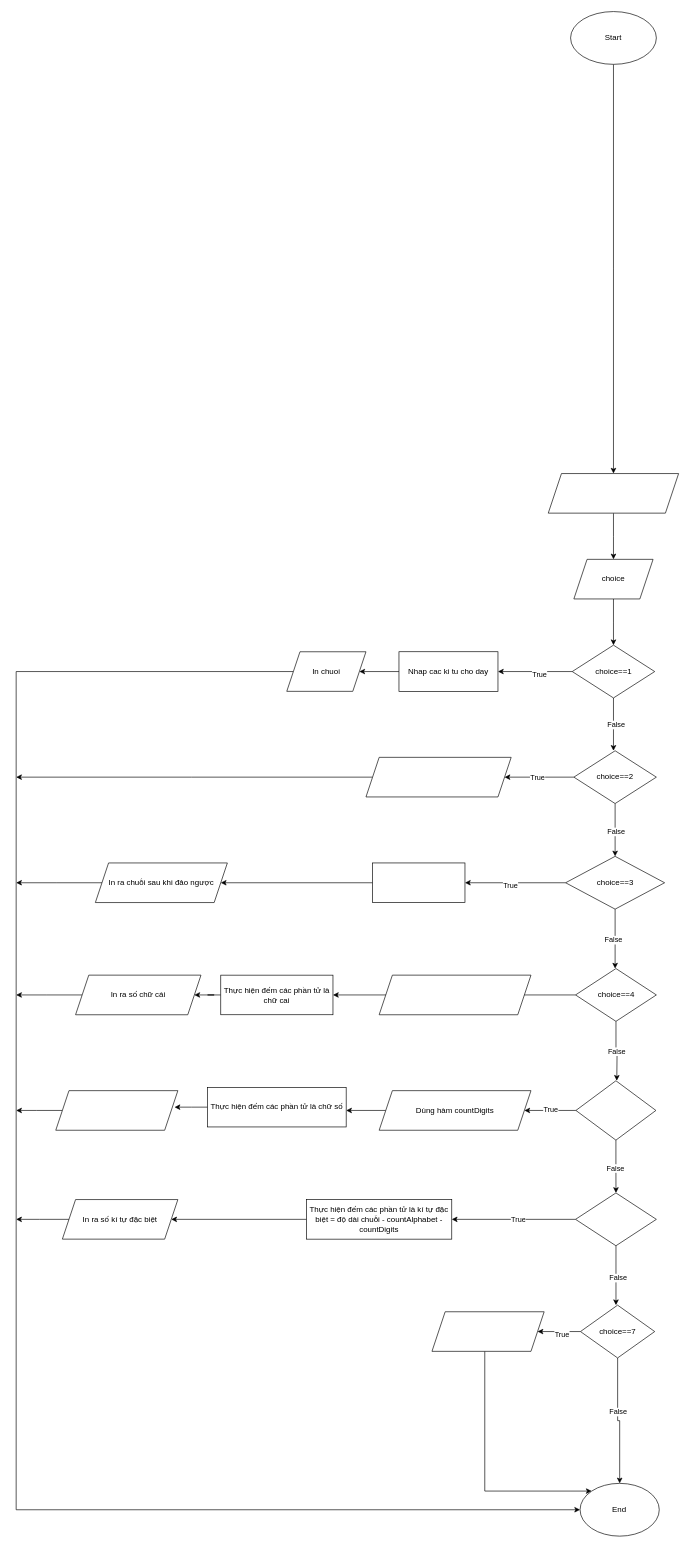
Some shapes in this 690 by 1548 pixel diagram are drawn without their labels. Here are the shapes that lost their labels. From the top down, the centre of each, then its label:
At point (613, 493): "Khai báo các hàm countAlphabet, countDigits".
At point (438, 777): "in ra độ dài chuỗi in ra nội dung chuỗi".
At point (418, 882): "Thực hiện đổi chỗ các vị trị đầu cuối cho nhau".
At point (455, 994): "Dùng hàm countAlphabet".
At point (116, 1110): "In ra số chữ số".
At point (615, 1110): "choice==5".
At point (615, 1219): "choice==6".
At point (487, 1331): "Kết thúc chương trình Exit(0)".
